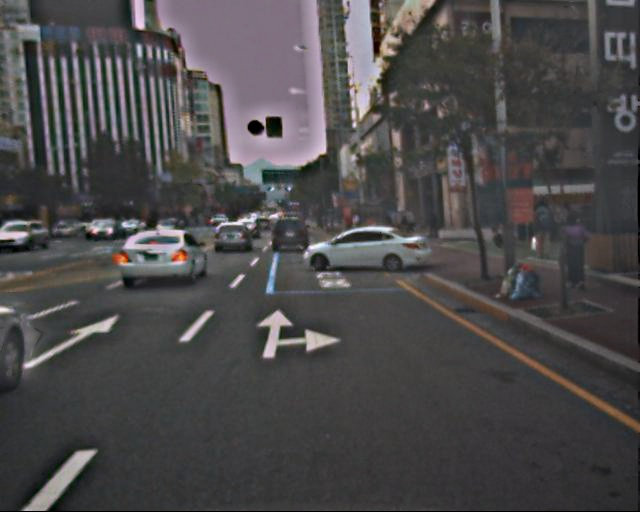person: (558, 214, 590, 292), (529, 201, 553, 260), (426, 208, 439, 239), (406, 208, 417, 234)
